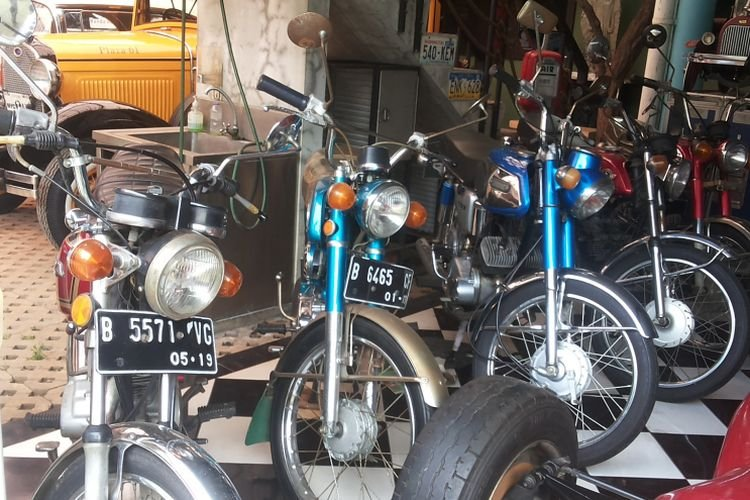motor: (265, 109, 453, 500), (466, 116, 659, 474), (34, 196, 250, 500)
